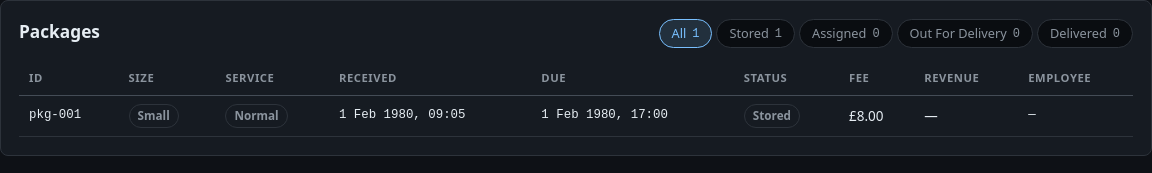
Scenario: PackagesPanel › shows empty state for a filter with no matches
Click the button "Out For Delivery 0" at (965, 34), box [897,19,1033,48]
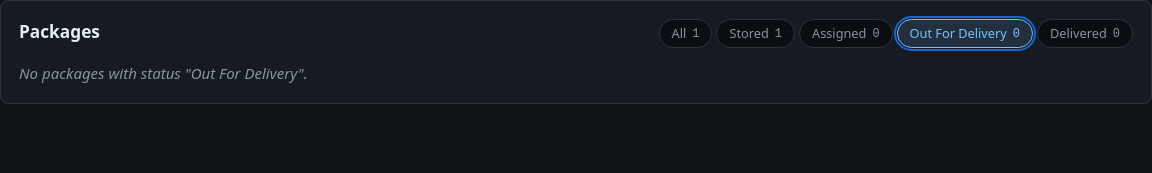
Expected: the text "No packages with status \"Out For Delivery\"." is shown, [19,63,308,83]
